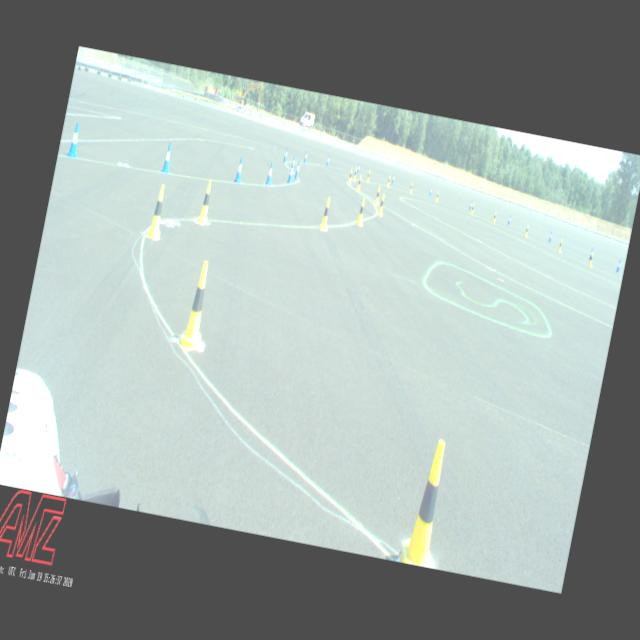blue_cone: (67, 122, 83, 159), (161, 143, 174, 174), (234, 157, 245, 183), (265, 162, 275, 186), (287, 163, 295, 183), (294, 160, 302, 178), (290, 156, 296, 172), (616, 260, 622, 272), (284, 148, 288, 162), (304, 151, 308, 164), (326, 155, 330, 166), (392, 173, 396, 184), (588, 249, 592, 260), (548, 232, 552, 242), (357, 164, 361, 174), (428, 186, 432, 196), (508, 215, 512, 225), (468, 201, 472, 210)
yellow_cone: (400, 436, 455, 568), (178, 259, 216, 350), (146, 183, 170, 240), (197, 180, 216, 225), (319, 196, 333, 231), (356, 198, 367, 225), (377, 193, 386, 216), (374, 187, 382, 204), (356, 175, 363, 192), (588, 252, 594, 267), (352, 168, 358, 182), (348, 168, 353, 184), (558, 240, 564, 252), (524, 225, 529, 238), (386, 175, 391, 188), (492, 212, 497, 224), (409, 182, 414, 194), (367, 170, 371, 182), (435, 191, 439, 202), (471, 204, 475, 215)
